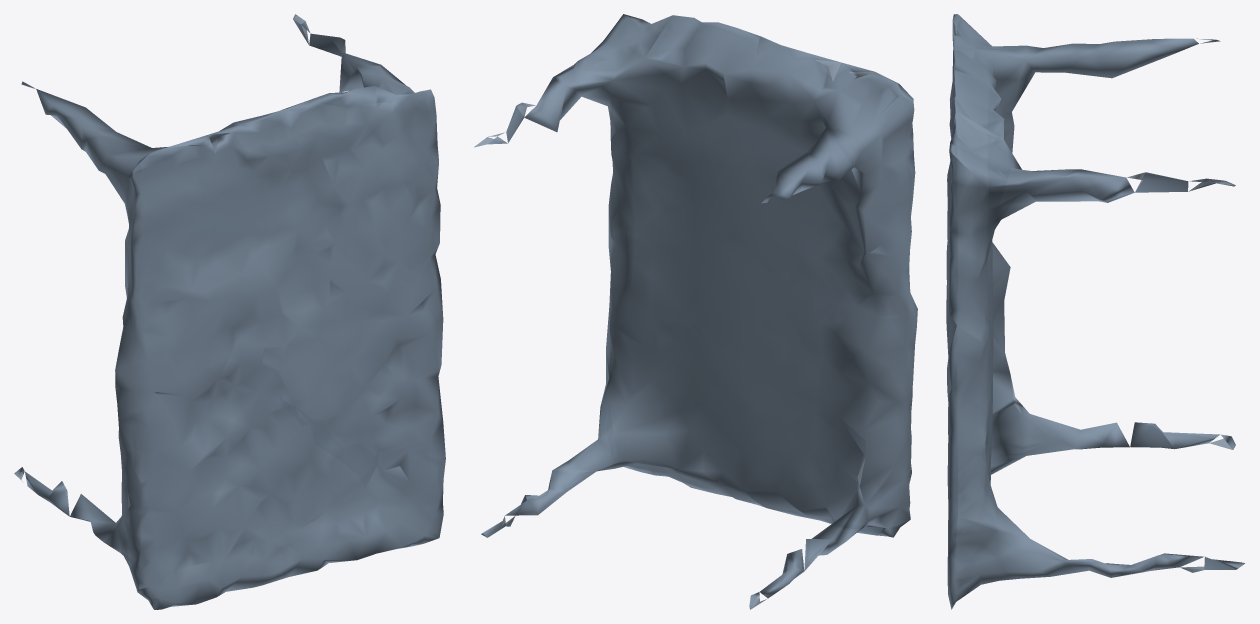
File: table_0422_recon.obj
3 views of the same model, side by side, from view 1: azimuth 30°, elevation 25°; view 2: azimuth 150°, elevation 25°; view 3: azimuth 270°, elevation 25° (orthographic).
Size of the model in its own units: 0.9551 by 1.36 by 0.7655.
